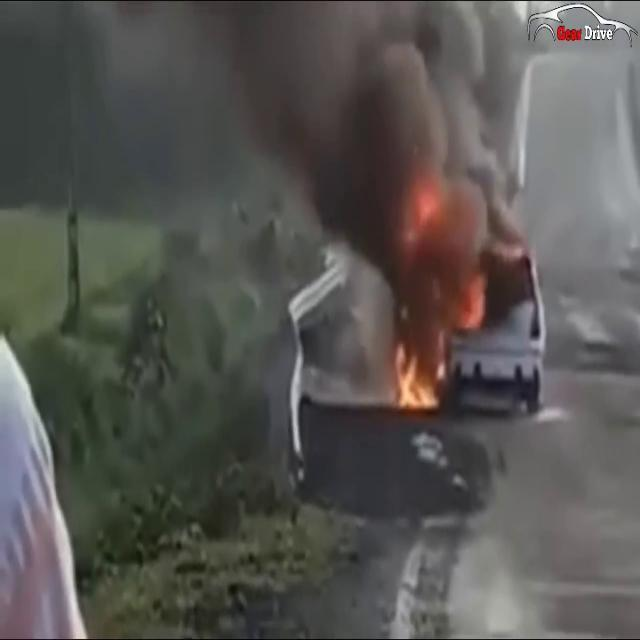Fire: (384, 176, 491, 412), (386, 330, 446, 420)
Smoke: (0, 0, 518, 309)
